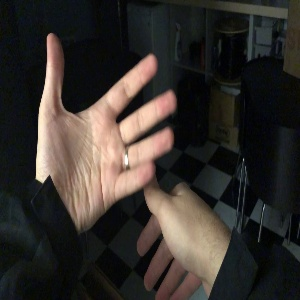hand: (37, 33, 176, 228), (138, 179, 228, 300)
